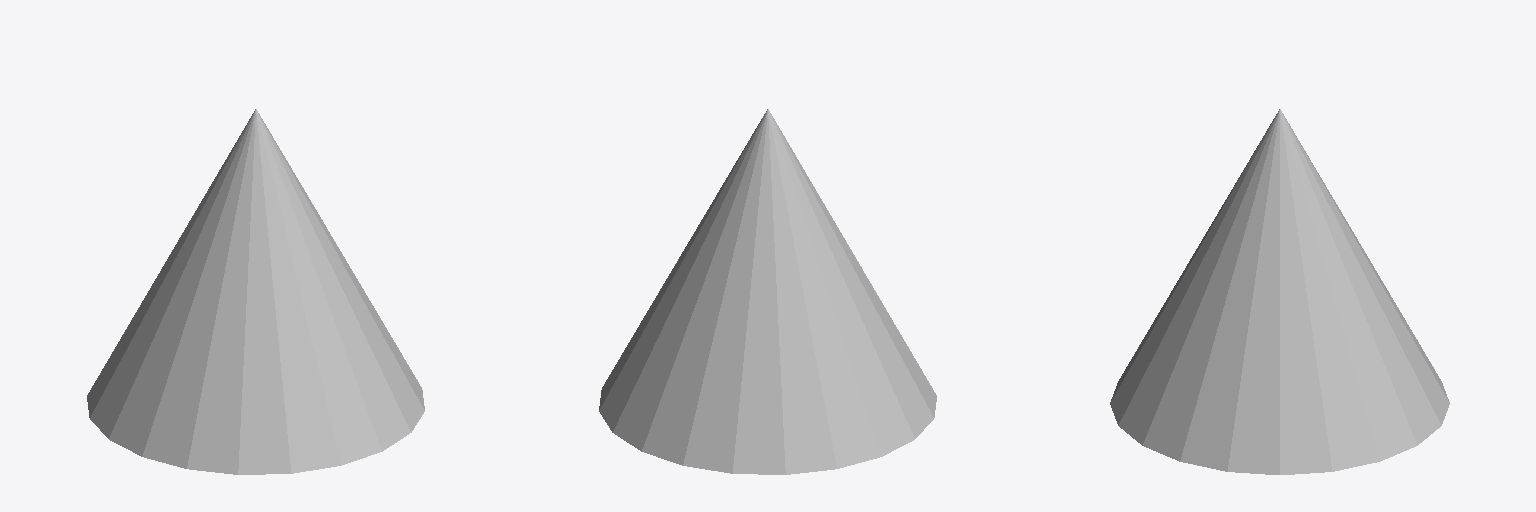
The picture shows the model from 3 angles: view 1: azimuth 30°, elevation 25°; view 2: azimuth 150°, elevation 25°; view 3: azimuth 270°, elevation 25°; orthographic projection.
Parts seen in each view (by area): view 1: my_cone.obj; view 2: my_cone.obj; view 3: my_cone.obj.
Part boxes in pixels (left/top/right/bottom): my_cone.obj: left=87, top=109, right=424, bottom=474; my_cone.obj: left=599, top=109, right=936, bottom=474; my_cone.obj: left=1110, top=109, right=1449, bottom=474.
Bounding box in the file's own units: 3.75 × 3.59 × 3.75.